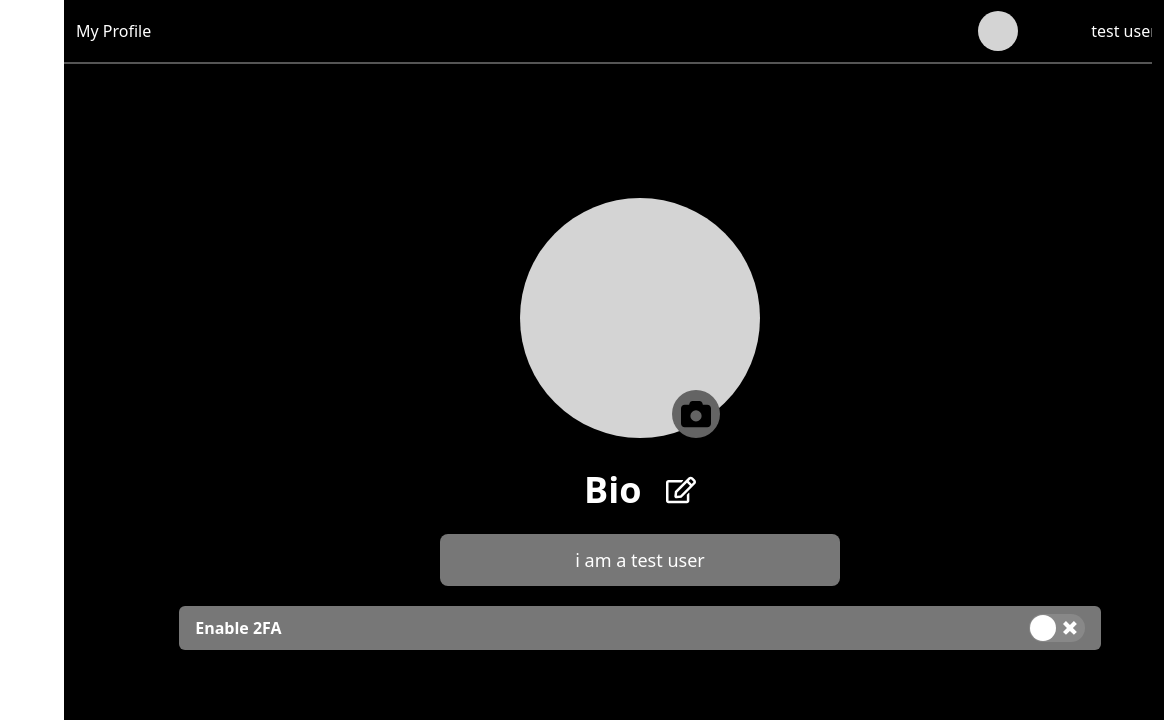
Test: tests the Profile compoent › should change the bio of the user
This screenshot has width=1164, height=720.
Click the button with test id "editBio": (681, 490) [666,475,696,505]
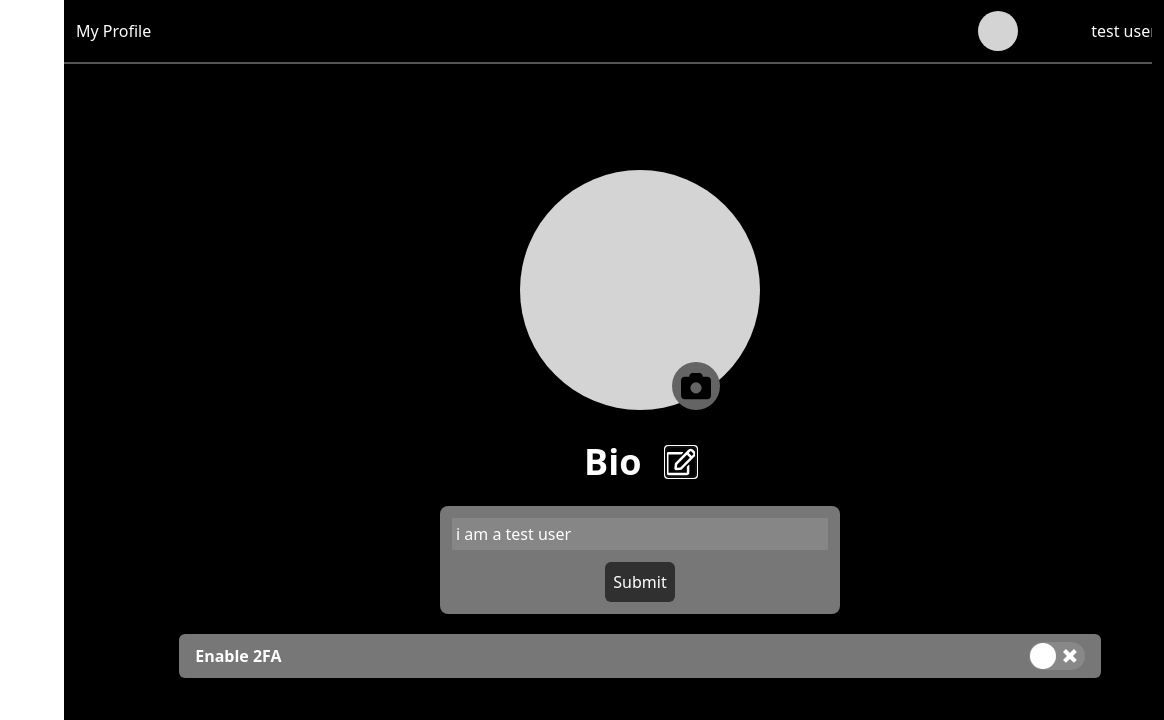
In the field with placeholder "Enter Bio Here": (640, 534) [452,518,828,550], type " God of Thunder"
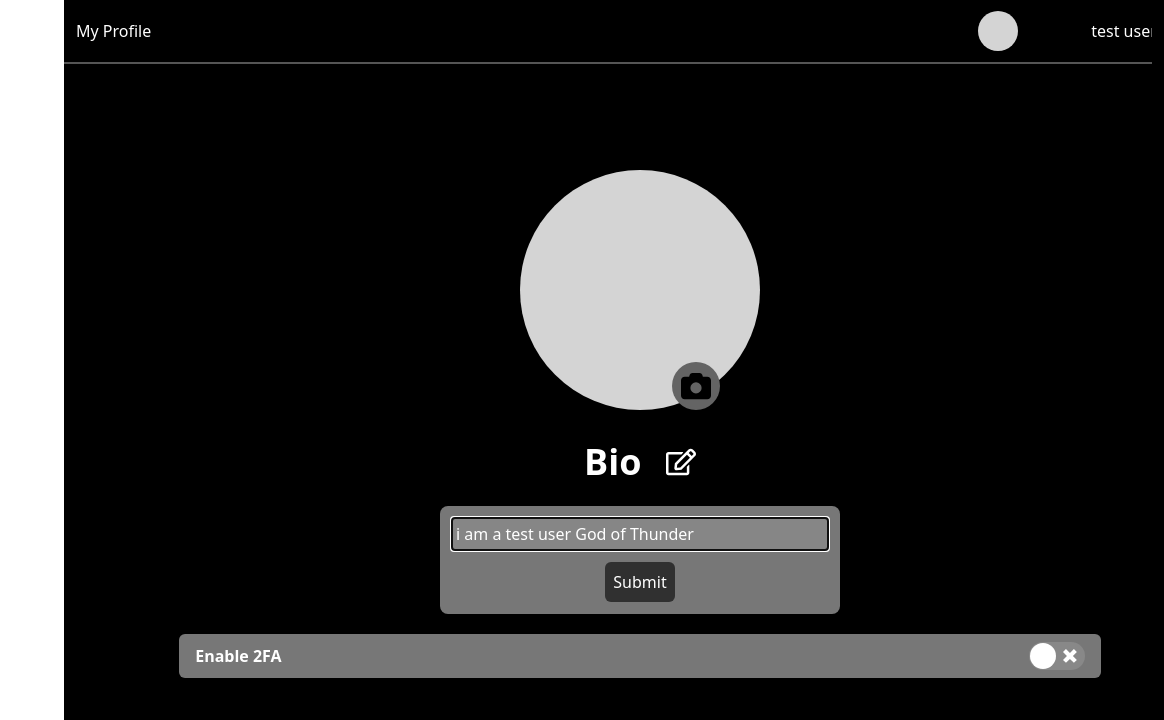
Click the button showing "Submit": (640, 582) [605,562,675,602]
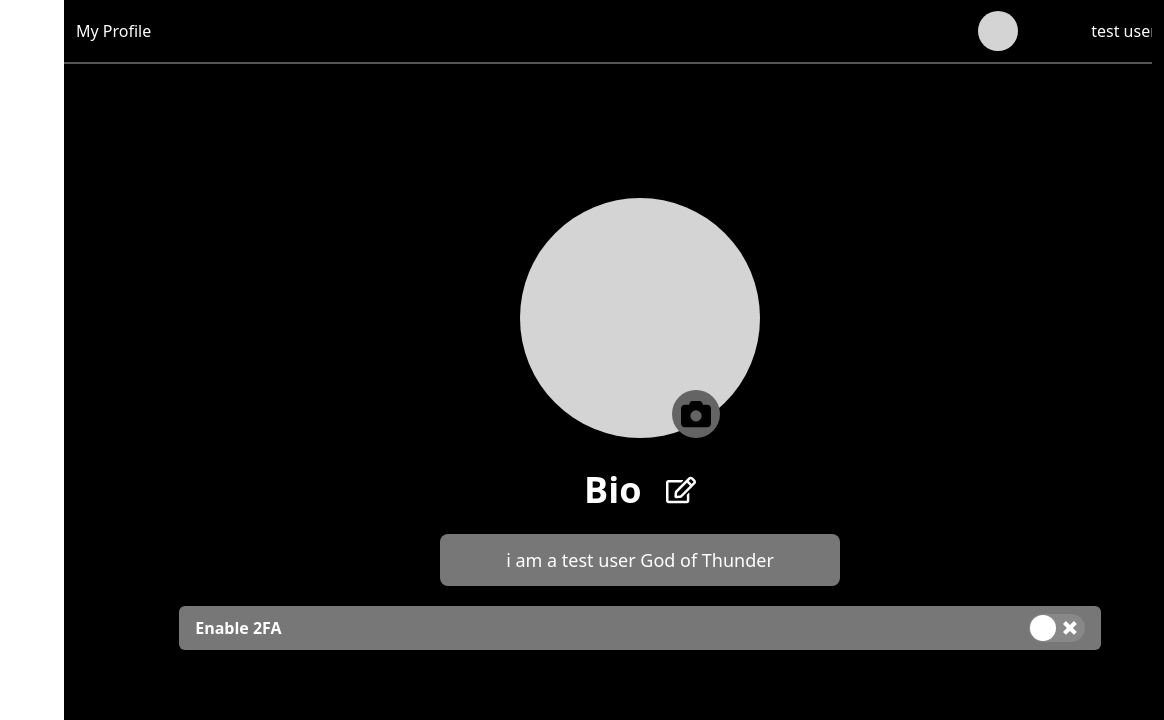
Result: the text "i am a test user God of Thunder" is shown at [506,548,774,572]
